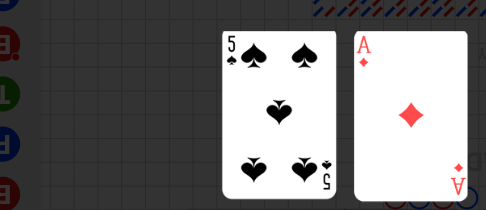5S: (226, 34, 238, 67)
AD: (449, 160, 466, 196)
